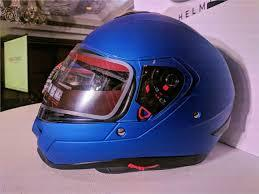helmet: (32, 12, 235, 167)
